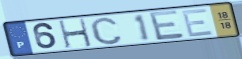1: (133, 12, 150, 42)
6: (31, 22, 58, 51)
C: (88, 15, 124, 46)
E: (147, 9, 186, 42), (180, 7, 216, 39)
H: (57, 17, 94, 50)
